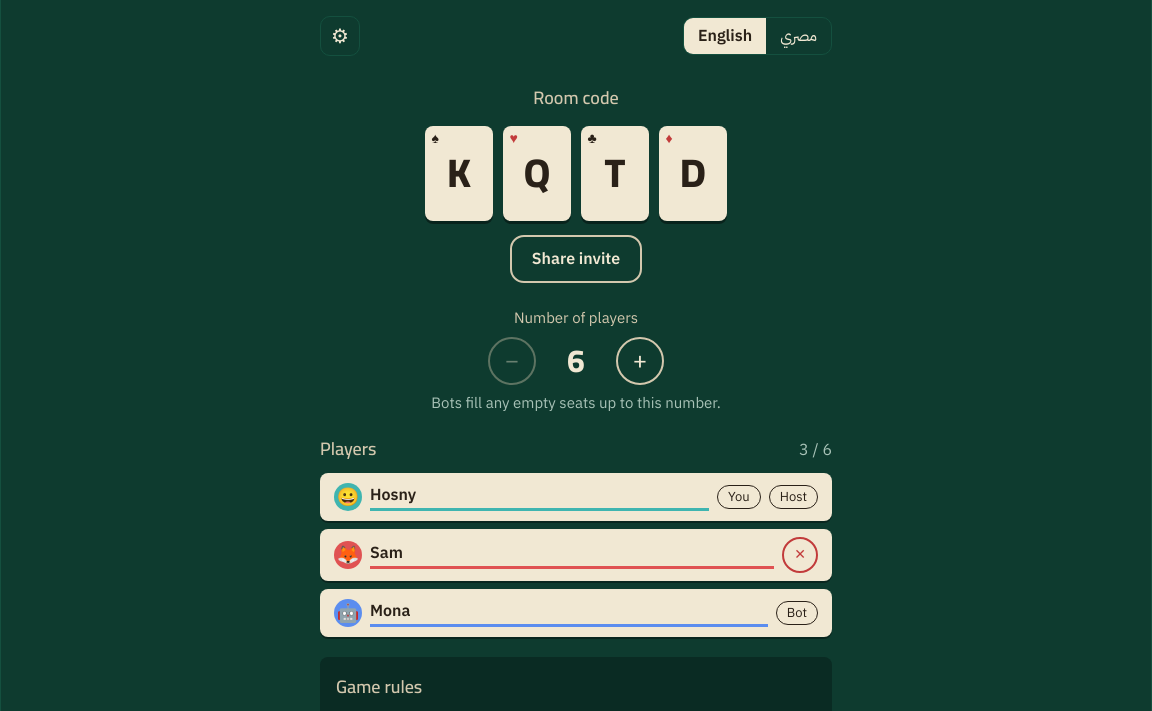
Test: room size › lets the host change the number of players within the limits
The image size is (1152, 711).
Expected: the element "Number of players" shows "6", [567,330,585,390]
Expected: the button named "Fewer players" is disabled, [488,337,536,385]
Click the button named "More players" at (640, 361), box [616,337,664,385]
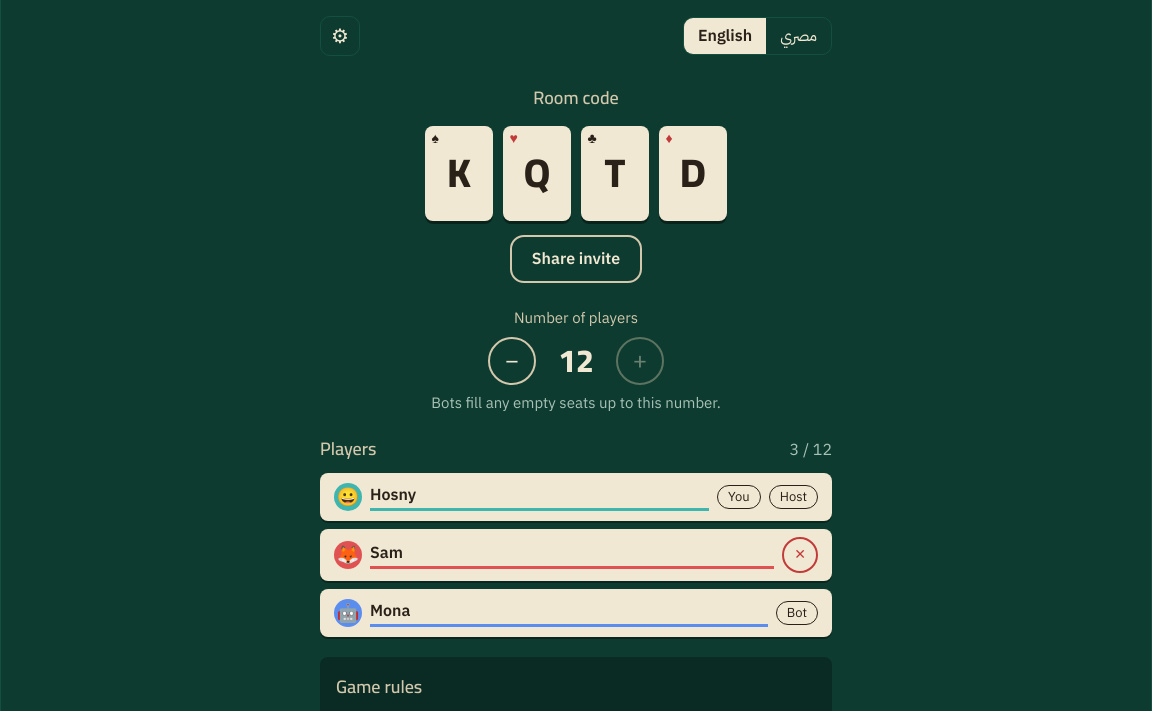
Expected: the button named "More players" is disabled, [616,337,664,385]
Expected: the button named "Fewer players" is enabled, [488,337,536,385]
Expected: the text "3 / 12" is shown, [790,438,832,463]
